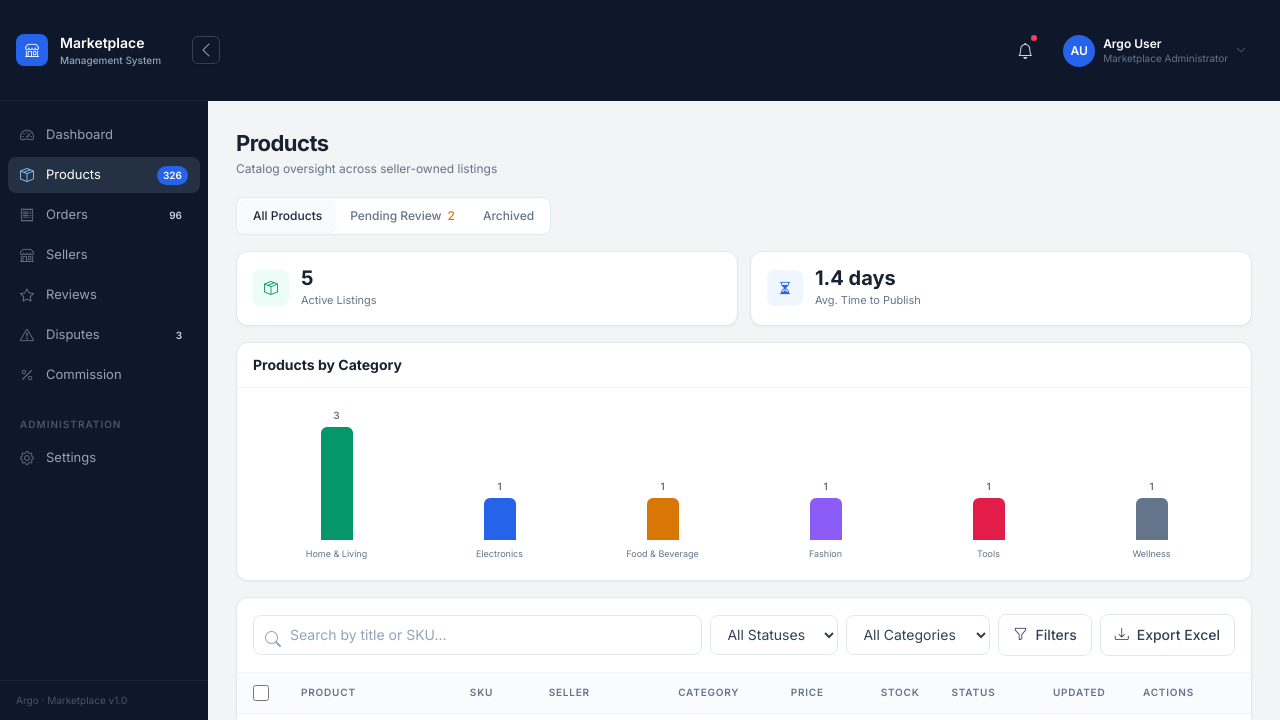
Test case: signs the admin out, clears the session, and returns to admin login
Click the button with aria-label "Open profile menu" at (1155, 50), box [1057,28,1252,72]
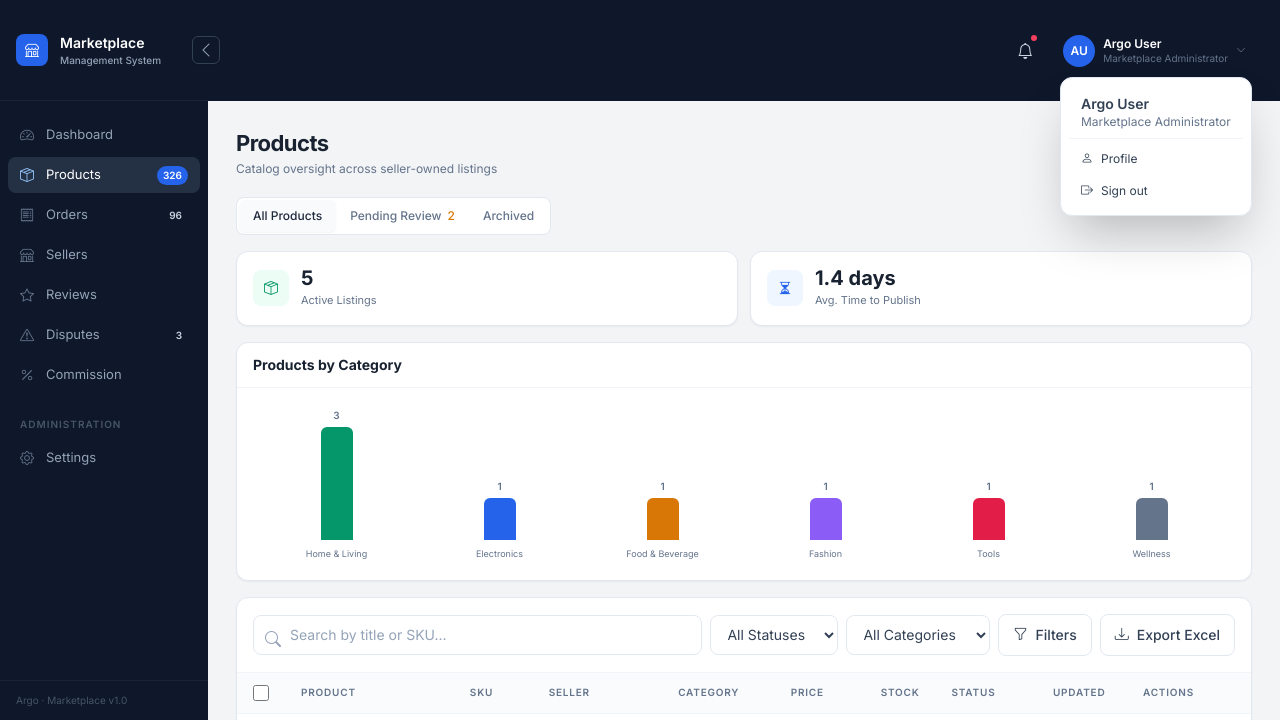
Click the button "Sign out" at (1156, 190), box [1069,174,1243,206]
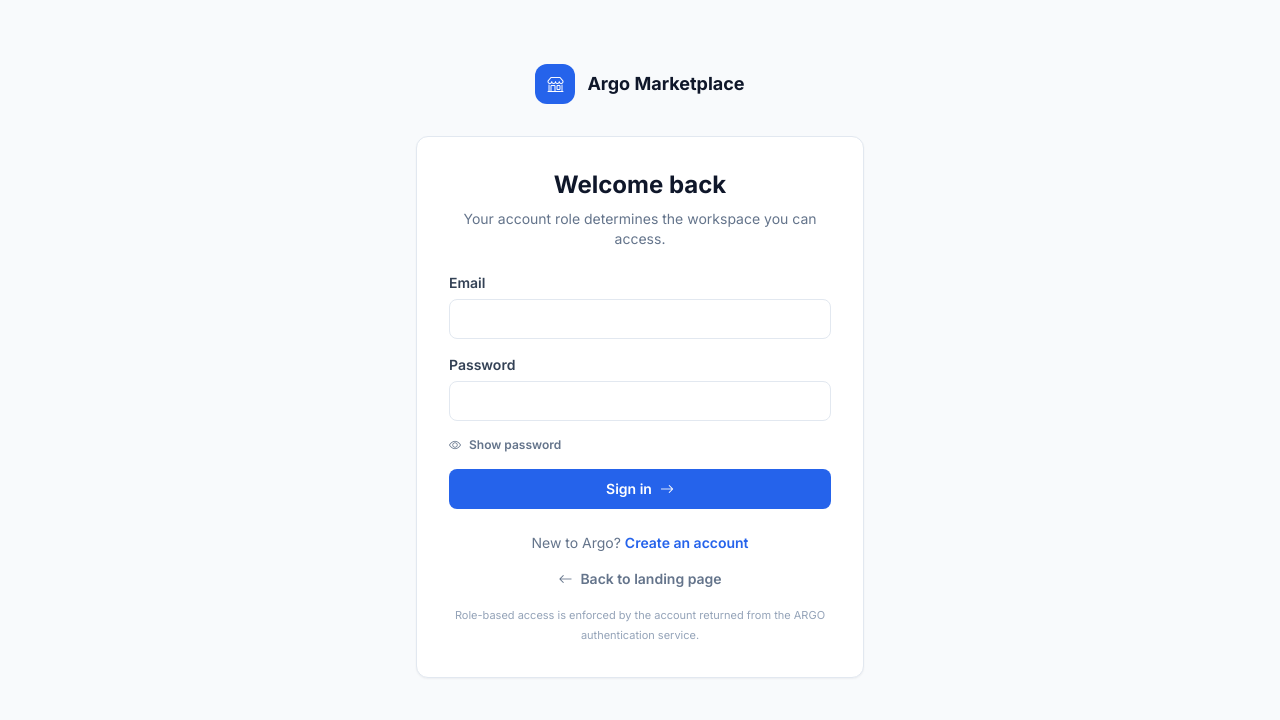
Expected: the heading "Welcome back" is shown, [554,170,726,199]
Expected: the text "Admin" is gone
